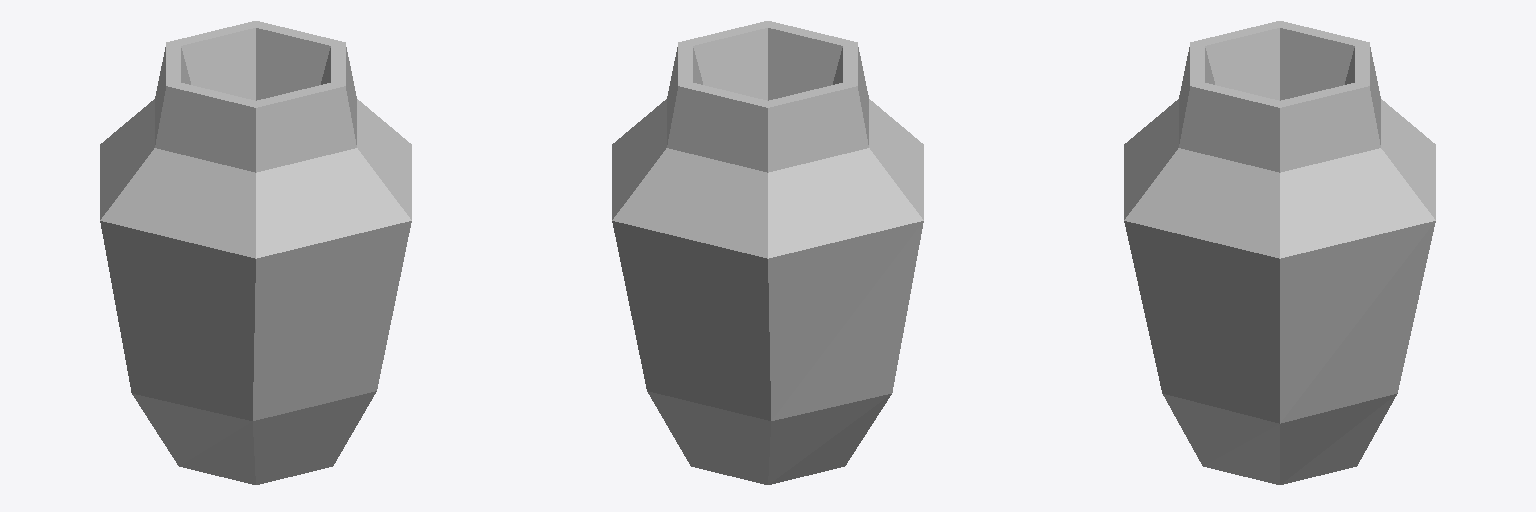
File: jug_005.obj
The picture shows the model from 3 angles: view 1: azimuth 30°, elevation 25°; view 2: azimuth 150°, elevation 25°; view 3: azimuth 270°, elevation 25°; orthographic projection.
Visible parts, largest first — view 1: jug_005; view 2: jug_005; view 3: jug_005.
Part boxes in pixels (left/top/right/bottom): jug_005: left=100, top=21, right=411, bottom=484; jug_005: left=612, top=21, right=923, bottom=484; jug_005: left=1124, top=21, right=1435, bottom=484.
Bounding box in the file's own units: 0.3821 × 0.449 × 0.3309.